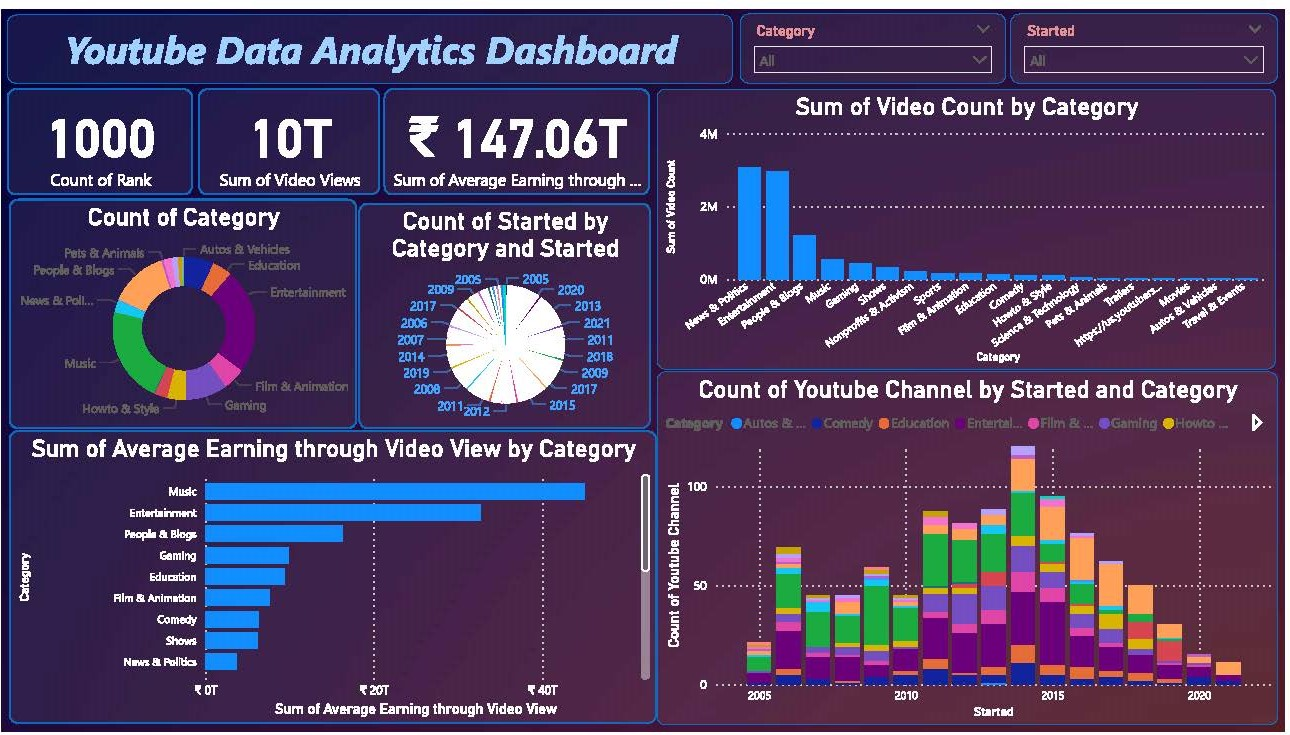

This screenshot's page, from the dashboard's own definition file:
{"tool":"powerbi","page":{"name":"Page 1","canvas":[1280,720],"ordinal":0},"visuals":[{"type":"slicer","fields":{"Values":["topSubscribed.Category"]},"box":[737,3.8,266.5,69.9],"z":0},{"type":"slicer","fields":{"Values":["topSubscribed.Started"]},"box":[1007.3,3.8,266.5,69.9],"z":1000},{"type":"textbox","box":[6.1,4.5,723.8,69.7],"z":2000},{"type":"donutChart","title":"Count of Category","fields":{"Y":["CountNonNull(topSubscribed.Category)"],"Series":["topSubscribed.Category"]},"box":[7.6,189,347.7,228.7],"z":3000},{"type":"pieChart","fields":{"Y":["Count(topSubscribed.Started)"],"Series":["topSubscribed.Started"],"Category":["topSubscribed.Category"]},"box":[357.2,192.8,291,224.9],"z":4000},{"type":"card","fields":{"Values":["Count(topSubscribed.Rank)"]},"box":[5.7,79.4,185.2,105.8],"z":5000},{"type":"card","fields":{"Values":["Sum(topSubscribed.Video Views)"]},"box":[196.5,79.4,181.4,105.8],"z":6000},{"type":"card","fields":{"Values":["Sum(topSubscribed.AEVV)"]},"box":[381.6,78.7,265,106],"z":7000},{"type":"barChart","fields":{"Y":["Sum(topSubscribed.AEVV)"],"Category":["topSubscribed.Category"]},"box":[7.6,419.5,646.3,292.9],"z":8000},{"type":"columnChart","fields":{"Y":["CountNonNull(topSubscribed.Youtube Channel)"],"Category":["topSubscribed.Started"],"Series":["topSubscribed.Category"]},"box":[653.9,360.9,619.8,353.4],"z":9000},{"type":"columnChart","fields":{"Category":["topSubscribed.Category"],"Y":["Sum(topSubscribed.Video Count)"]},"box":[653.9,79.4,618,279.7],"z":10000}]}

Visuals, with their boxes in screenshot pixels (x1, y1, x2, y2), scaled from the page's 1280x720 canvas onto the 1290x735 screenshot:
slicer - topSubscribed.Category: left=743, top=4, right=1011, bottom=75
slicer - topSubscribed.Started: left=1015, top=4, right=1284, bottom=75
textbox: left=6, top=5, right=736, bottom=76
"Count of Category" donutChart: left=8, top=193, right=358, bottom=426
pieChart - Count(topSubscribed.Started) x topSubscribed.Started: left=360, top=197, right=653, bottom=426
card - Count(topSubscribed.Rank): left=6, top=81, right=192, bottom=189
card - Sum(topSubscribed.Video Views): left=198, top=81, right=381, bottom=189
card - Sum(topSubscribed.AEVV): left=385, top=80, right=652, bottom=189
barChart - Sum(topSubscribed.AEVV) x topSubscribed.Category: left=8, top=428, right=659, bottom=727
columnChart - CountNonNull(topSubscribed.Youtube Channel) x topSubscribed.Started: left=659, top=368, right=1284, bottom=729
columnChart - topSubscribed.Category x Sum(topSubscribed.Video Count): left=659, top=81, right=1282, bottom=367
